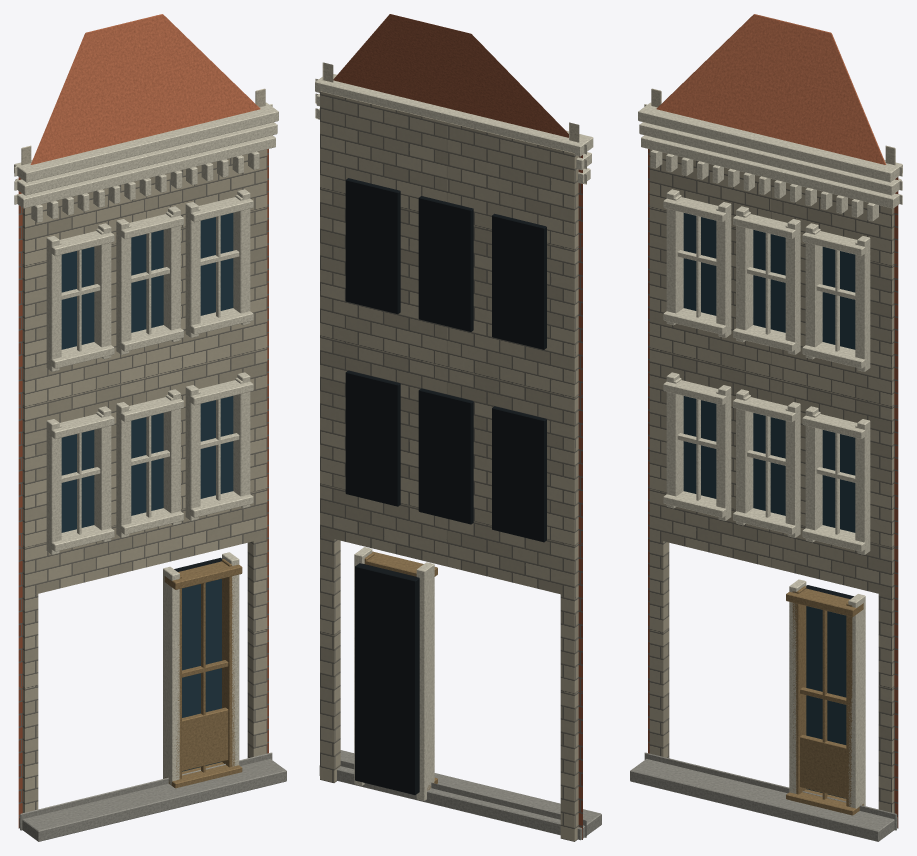
The model's file is VICT33_lod1.glb.
3 views of the same model, side by side, from view 1: azimuth 30°, elevation 25°; view 2: azimuth 150°, elevation 25°; view 3: azimuth 330°, elevation 25° (orthographic). The views are drawn at different scales.
Visible parts, largest first — view 1: VICT33_FRONT_LOD1; view 2: VICT33_FRONT_LOD1; view 3: VICT33_FRONT_LOD1.
Part boxes in pixels (x1,y1,x2,y2): VICT33_FRONT_LOD1: (14, 14, 286, 841); VICT33_FRONT_LOD1: (315, 14, 601, 841); VICT33_FRONT_LOD1: (630, 14, 902, 841).
Bounding box in the file's own units: 3.84 × 10.8 × 0.998.
Materials: 10 (8 with a texture image).
